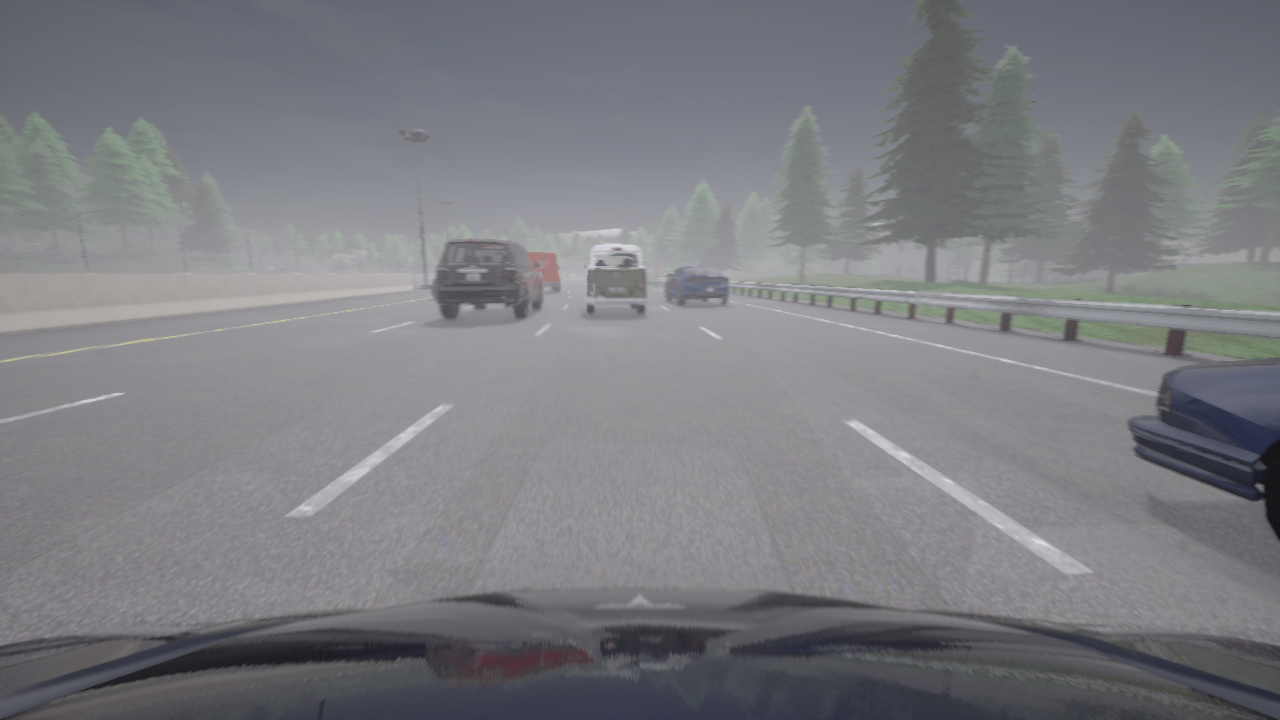cyclist: (0, 588, 1279, 719), (1127, 358, 1279, 542), (435, 240, 542, 319), (583, 244, 647, 314), (665, 265, 729, 305), (527, 253, 560, 292), (432, 278, 435, 298)
